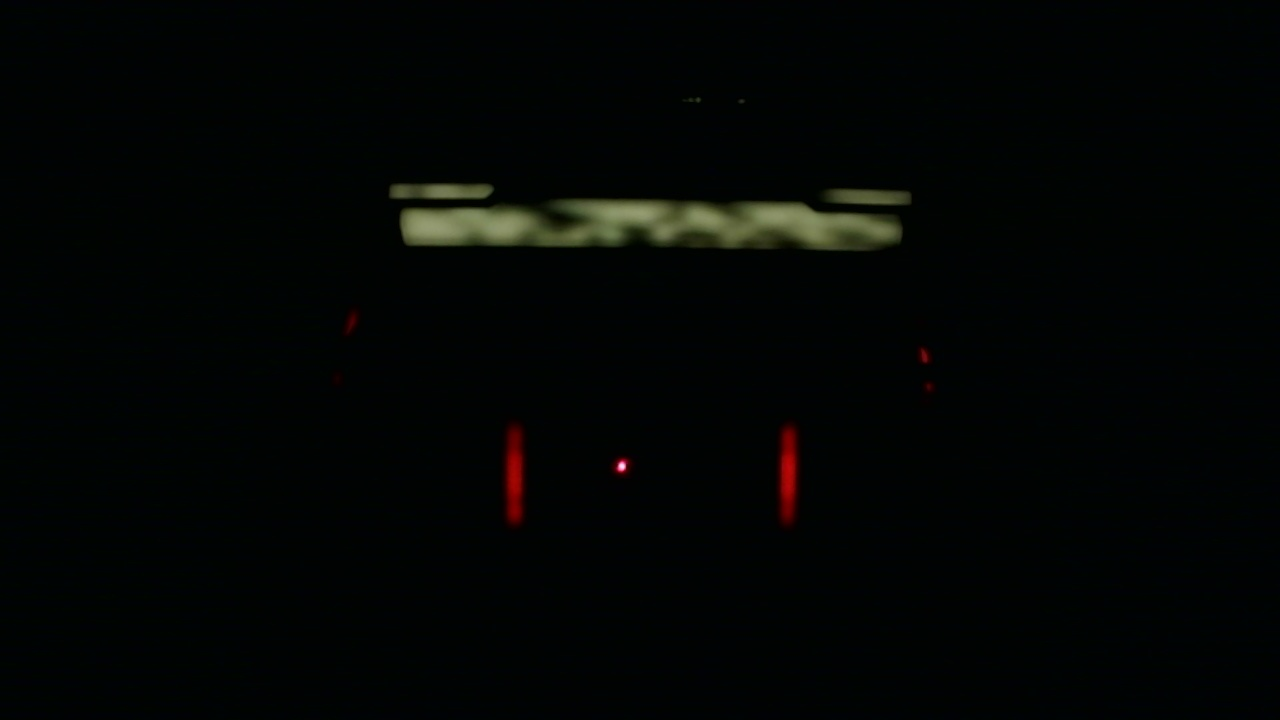lamp: (776, 421, 797, 524), (504, 424, 522, 524)
pair1: (506, 424, 798, 527)
